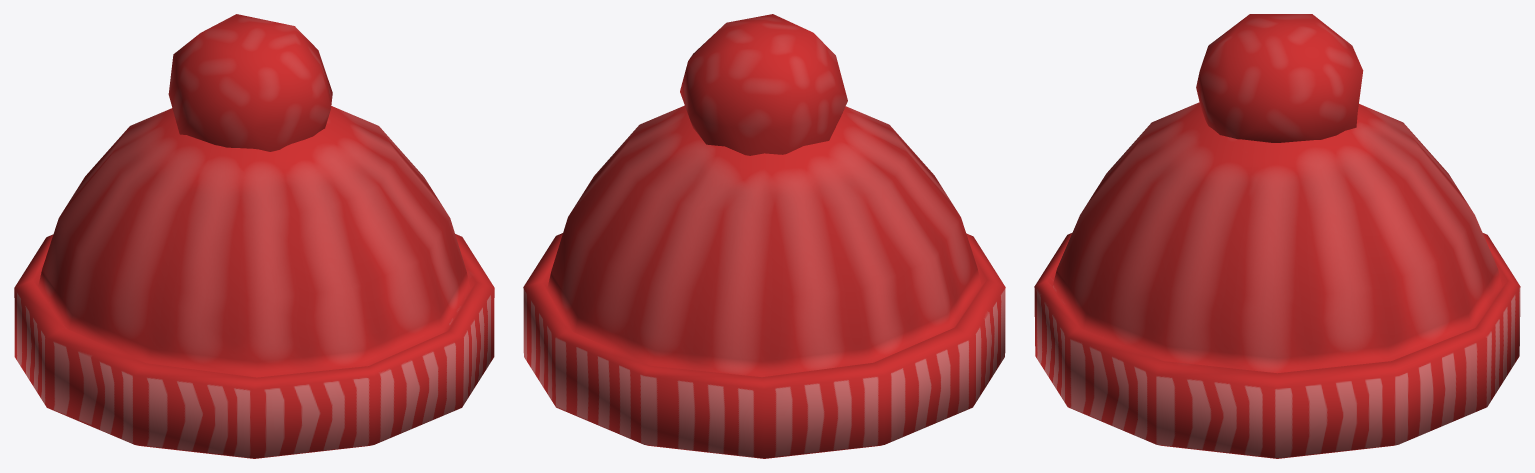
The model's file is hat.glb.
3 renders of one model, left to right at view 1: azimuth 30°, elevation 25°; view 2: azimuth 150°, elevation 25°; view 3: azimuth 270°, elevation 25°, orthographic.
Parts seen in each view (by area): view 1: GeoSphere001__zaaadefault_0; view 2: GeoSphere001__zaaadefault_0; view 3: GeoSphere001__zaaadefault_0.
Part boxes in pixels (box(x1,y1,x2,y2)): GeoSphere001__zaaadefault_0: box(14, 14, 494, 458); GeoSphere001__zaaadefault_0: box(523, 14, 1005, 458); GeoSphere001__zaaadefault_0: box(1034, 14, 1520, 458).
Size of the model in its own units: 52.93 by 40.62 by 53.04.
1 material, 1 textured.
